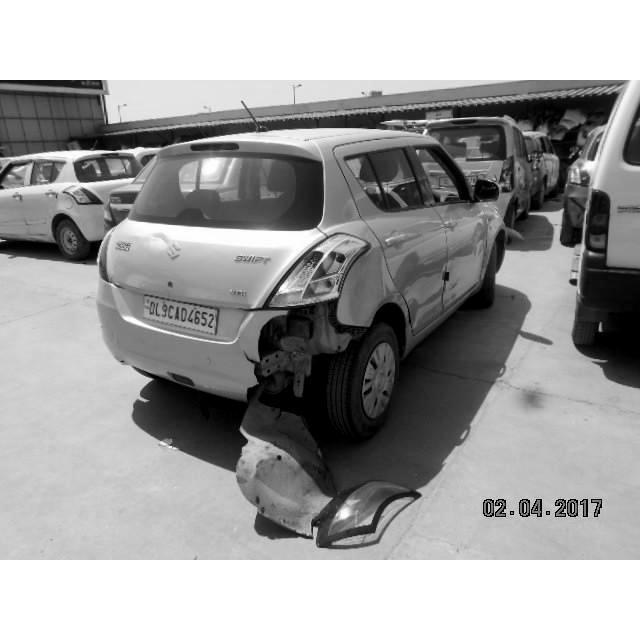rear-bumper-dent: (107, 290, 354, 403)
